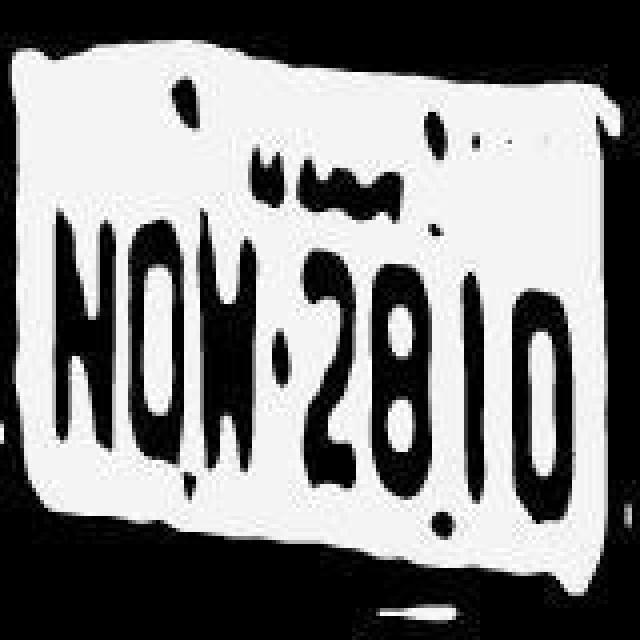1: (454, 266, 498, 518)
2: (292, 248, 364, 520)
8: (366, 258, 442, 510)
N: (38, 208, 122, 472)
O: (508, 278, 580, 538), (122, 212, 190, 468)
W: (190, 210, 266, 478)
